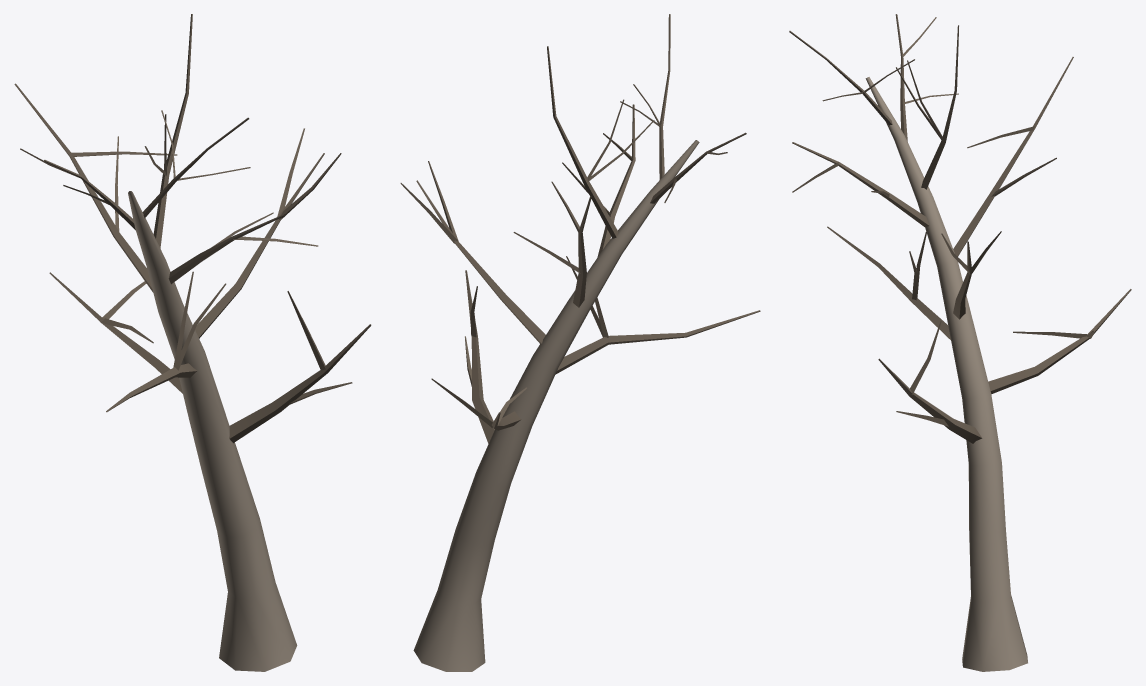
Rendered from tree_dead_b_lod0.glb.
3 renders of one model, left to right at view 1: azimuth 30°, elevation 25°; view 2: azimuth 150°, elevation 25°; view 3: azimuth 270°, elevation 25°, orthographic. The views are drawn at different scales.
Visible parts, largest first — view 1: tree_dead_b_lod0; view 2: tree_dead_b_lod0; view 3: tree_dead_b_lod0.
Part boxes in pixels (x1,y1,x2,y2): tree_dead_b_lod0: [14, 14, 371, 671]; tree_dead_b_lod0: [400, 14, 760, 671]; tree_dead_b_lod0: [789, 14, 1131, 671].
Size of the model in its own units: 4.56 by 9.11 by 4.7.
